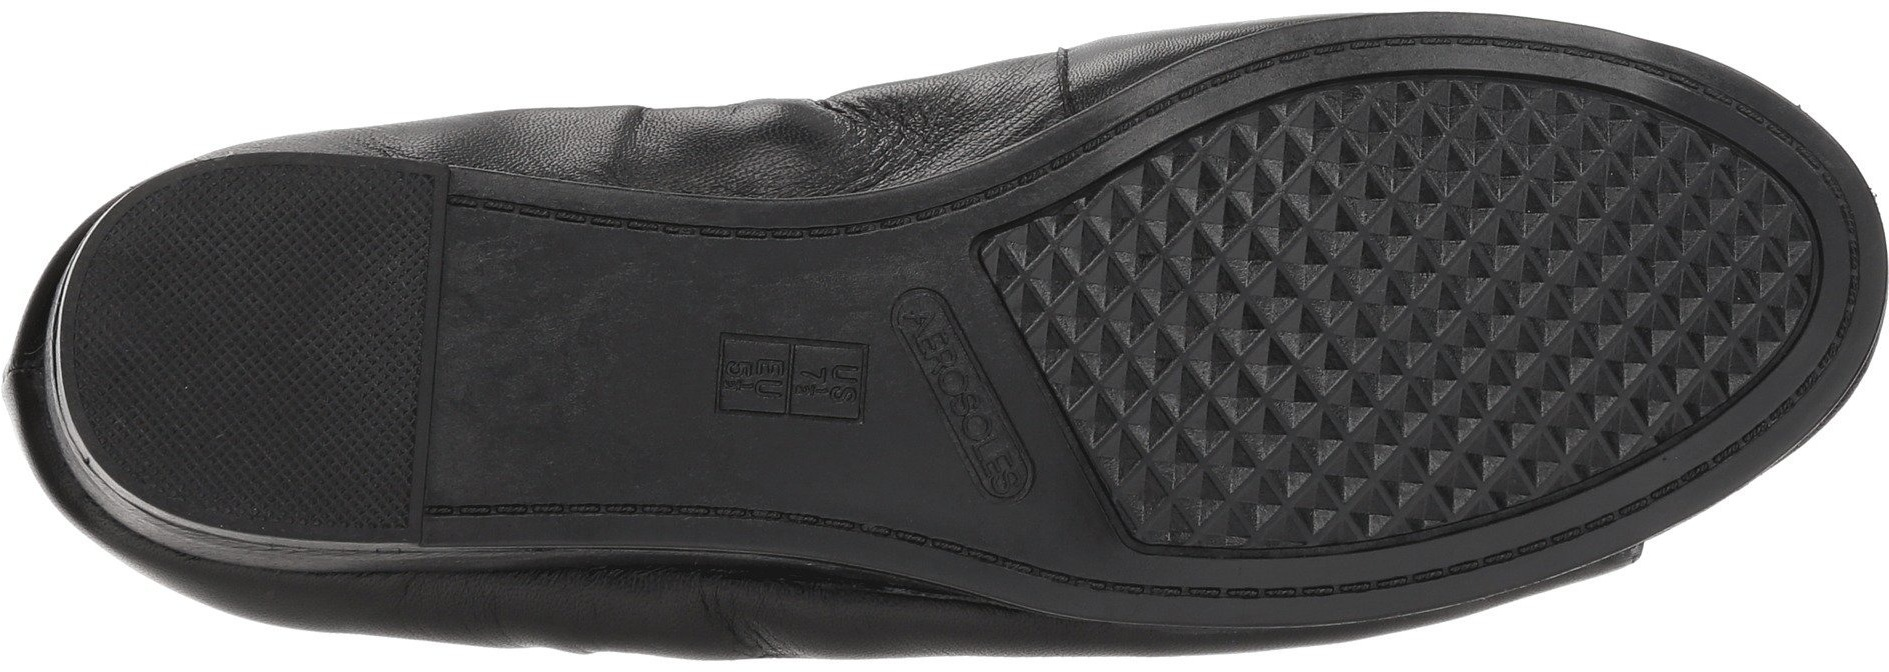other: (135, 202, 420, 479), (425, 248, 673, 491)
quad: (1241, 102, 1649, 470), (692, 290, 882, 462), (836, 275, 991, 429)
ribbon: (729, 459, 837, 558), (693, 201, 796, 287), (817, 199, 914, 278)
text: (788, 348, 867, 425), (720, 344, 796, 419)
